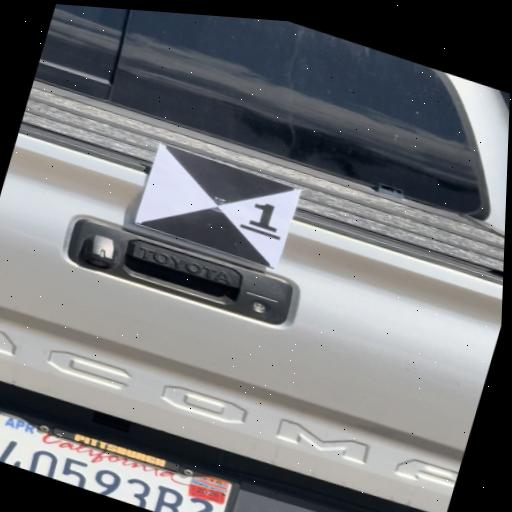target1: (137, 143, 298, 270)
